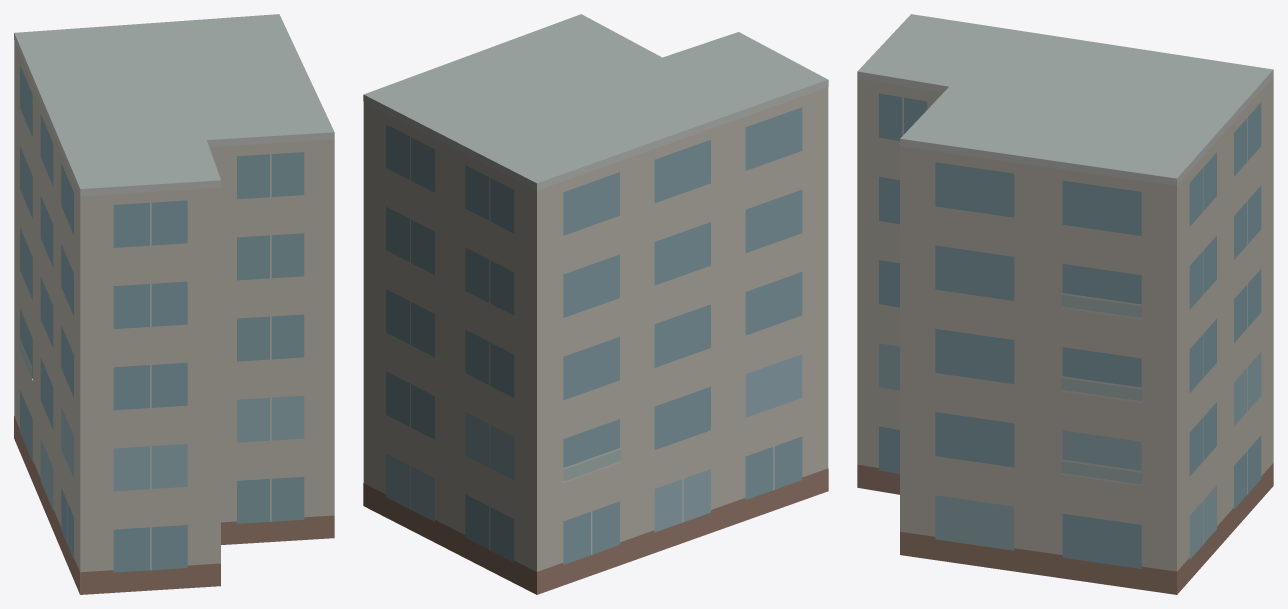
File: survey-upis-33045816.glb
The picture shows the model from 3 angles, left to right: view 1: azimuth 30°, elevation 25°; view 2: azimuth 150°, elevation 25°; view 3: azimuth 270°, elevation 25°; orthographic projection. The views are drawn at different scales.
Visible parts, largest first — view 1: survey-upis-33045816.tmp; view 2: survey-upis-33045816.tmp; view 3: survey-upis-33045816.tmp.
Boxes of the visible parts, left/top/right/bottom form: survey-upis-33045816.tmp: left=14, top=14, right=334, bottom=594; survey-upis-33045816.tmp: left=363, top=14, right=828, bottom=594; survey-upis-33045816.tmp: left=857, top=14, right=1273, bottom=594.
Bounding box in the file's own units: 11.67 × 13.75 × 12.47.
